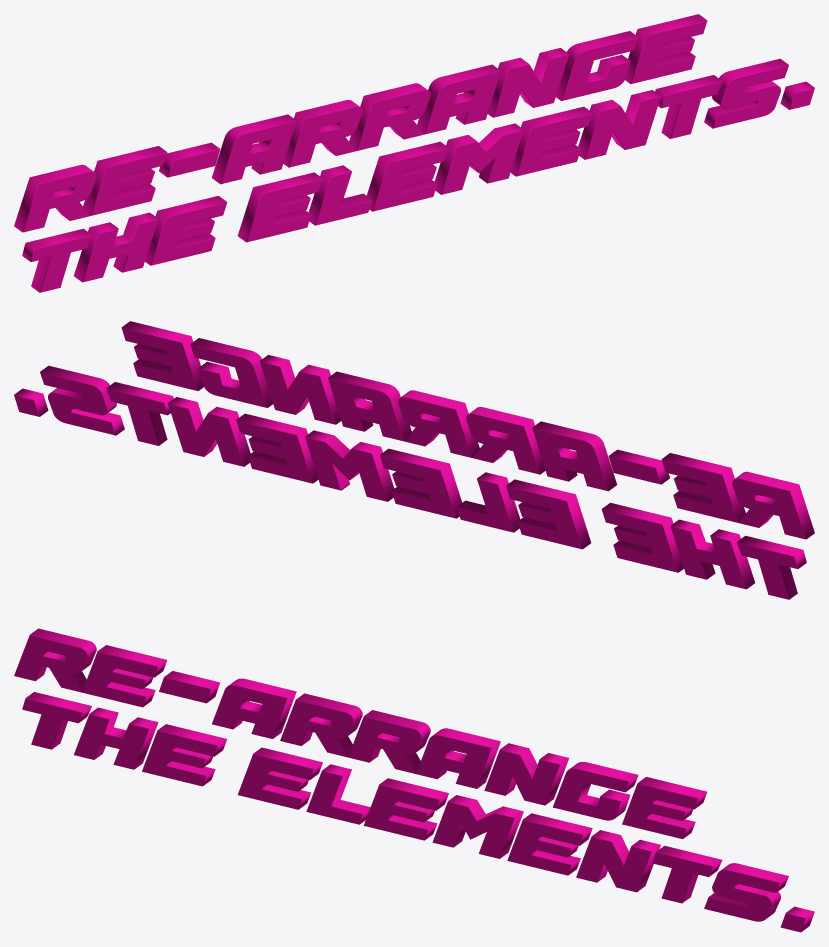
Rendered from ELEMENTS.gltf.
3 views of the same model, one above another, from view 1: azimuth 30°, elevation 25°; view 2: azimuth 150°, elevation 25°; view 3: azimuth 330°, elevation 25° (orthographic).
Parts seen in each view (by area): view 1: Text.005; view 2: Text.005; view 3: Text.005.
Boxes of the visible parts, x1,y1,x2,y2 form: Text.005: (14, 14, 814, 292); Text.005: (14, 321, 814, 599); Text.005: (14, 628, 814, 932).
Bounding box in the file's own units: 6.87 × 0.9074 × 0.1389.
